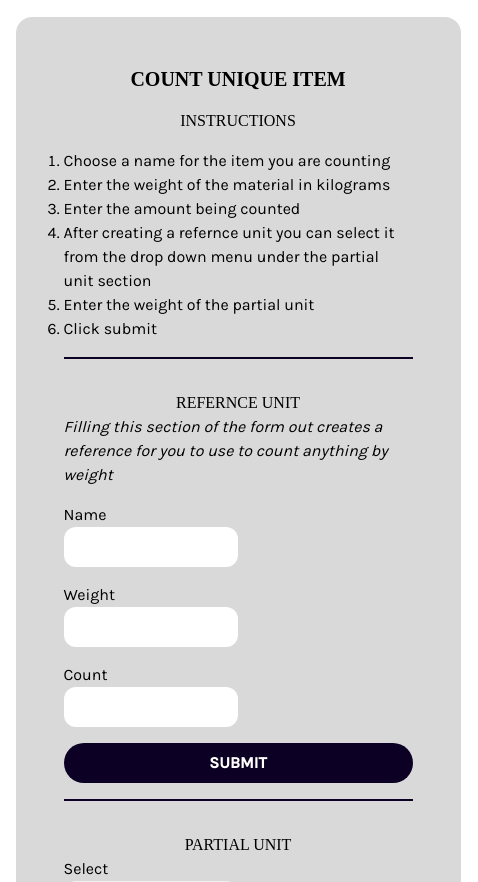
it: solve partial roll
Type "caps" into the field with test id "full-name" at {"x": 151, "y": 547}, box [64,527,238,567]
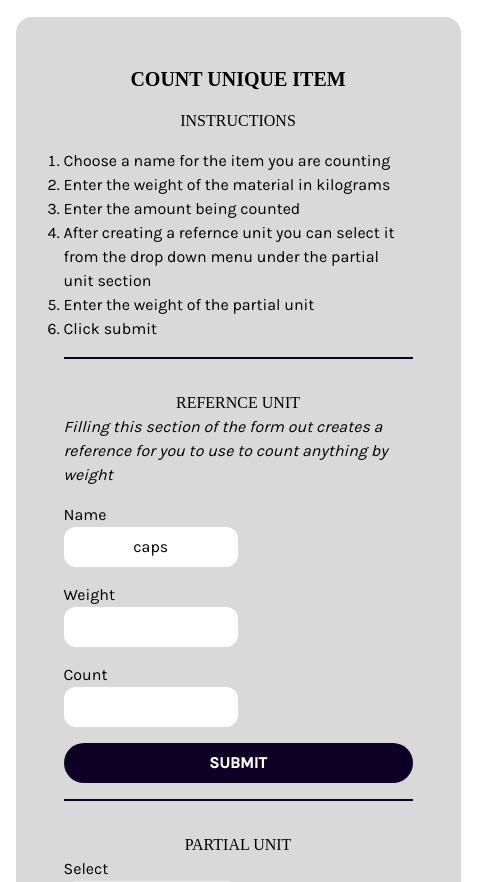
Type "5" into the number field with test id "full-gross" at {"x": 151, "y": 627}, box [64,607,238,647]
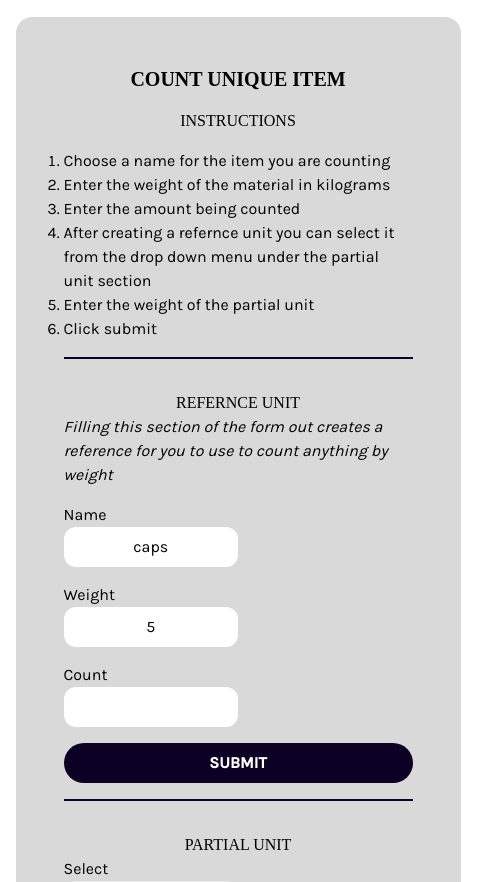
Type "5" into the number field with test id "full-count" at {"x": 151, "y": 707}, box [64,687,238,727]
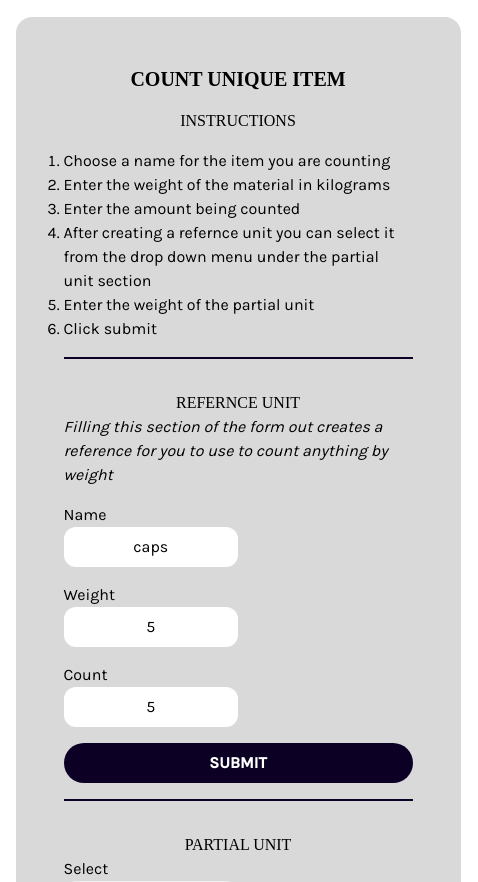
Click the button with test id "full-submit" at {"x": 238, "y": 763}, box [64,743,412,783]
(page scrolled)
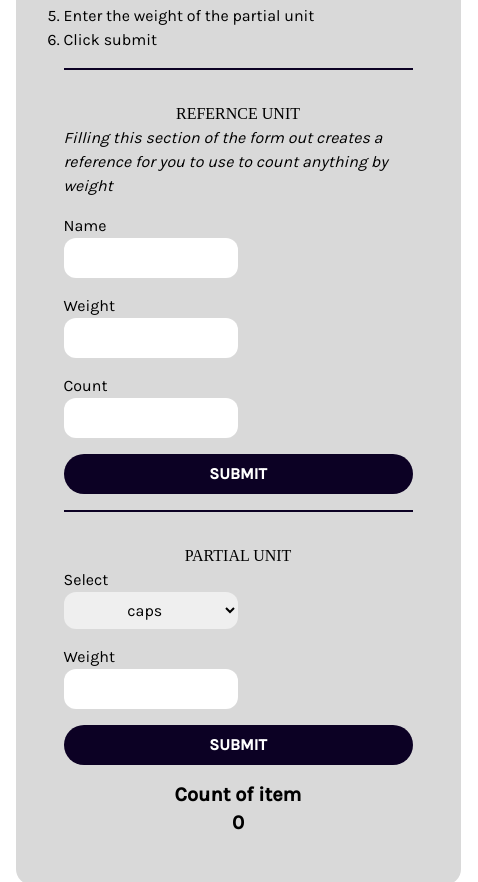
Type "5" into the number field with test id "part-gross" at {"x": 151, "y": 689}, box [64,669,238,709]
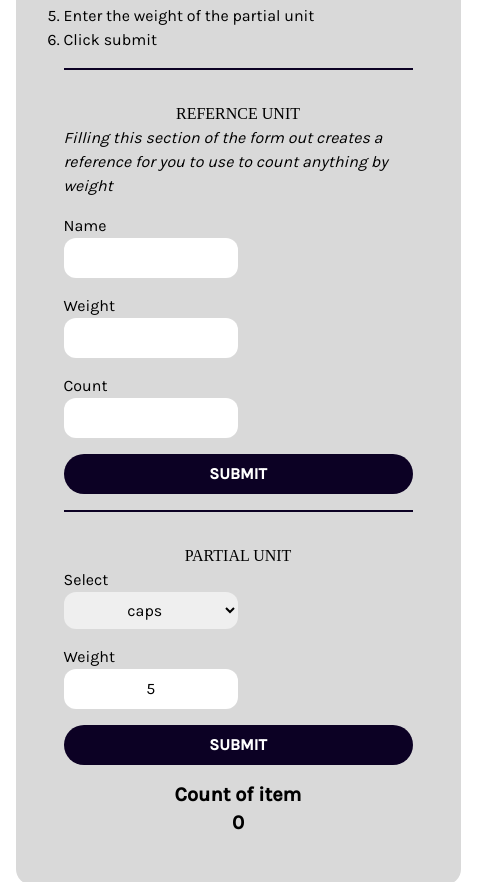
Click the button with test id "part-submit" at {"x": 238, "y": 745}, box [64,725,412,765]
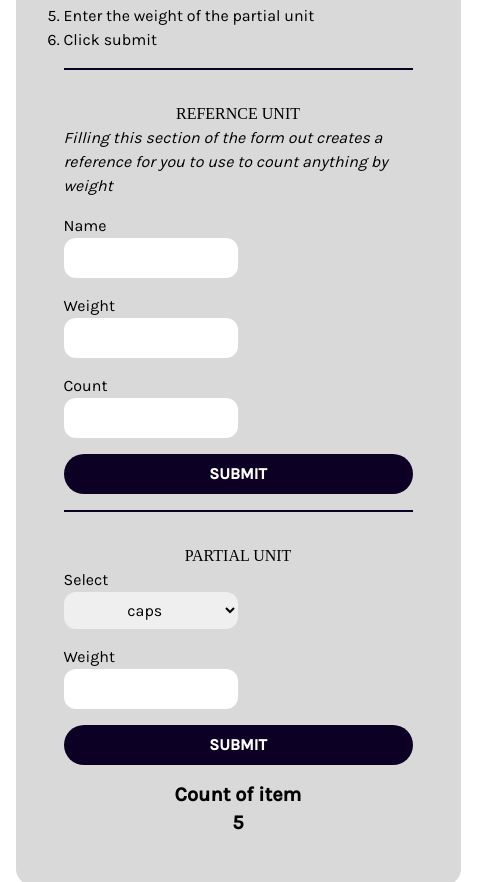
Result: the text with test id "net" reads "5" at [232,811,244,834]
